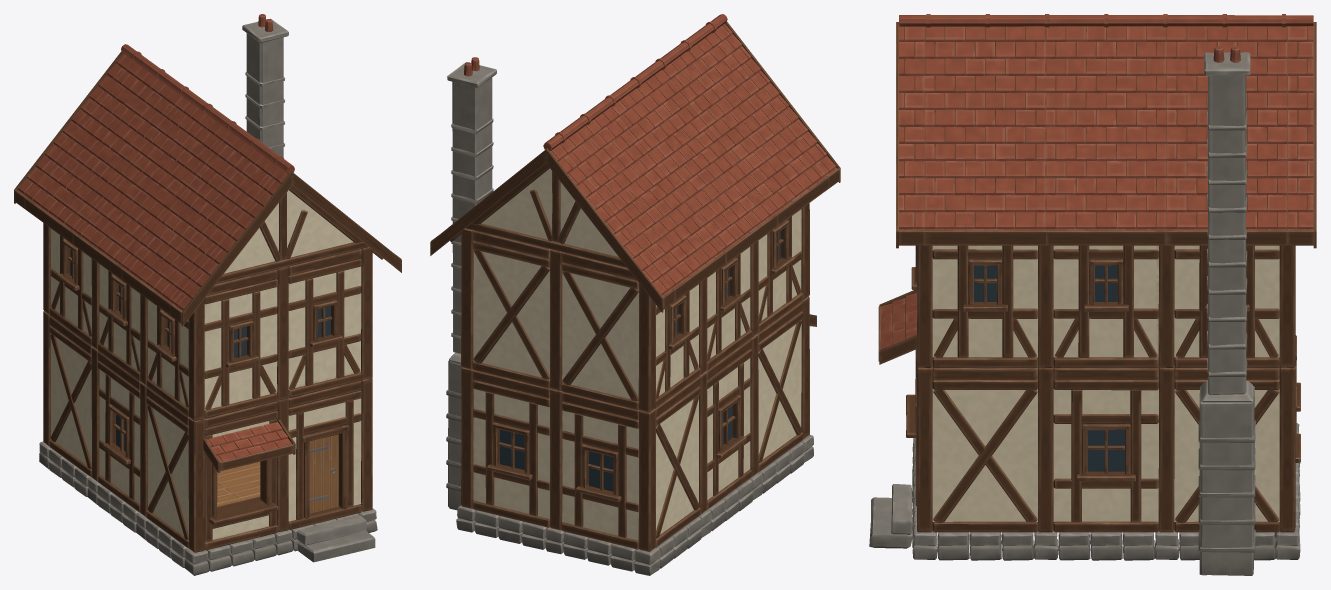
File: house_townhouse_godot.glb
The picture shows the model from 3 angles, left to right: view 1: azimuth 30°, elevation 25°; view 2: azimuth 150°, elevation 25°; view 3: azimuth 270°, elevation 25°; orthographic projection. The views are drawn at different scales.
Visible parts, largest first — view 1: house_townhouse_static; view 2: house_townhouse_static; view 3: house_townhouse_static.
Boxes of the visible parts, box(x1,y1,x2,y2) form: house_townhouse_static: box(14, 14, 401, 575); house_townhouse_static: box(430, 14, 840, 575); house_townhouse_static: box(869, 14, 1316, 575).
Size of what is drawn, in the model's own units: 5.51 by 9.52 by 7.4.
7 materials, 7 textured.
